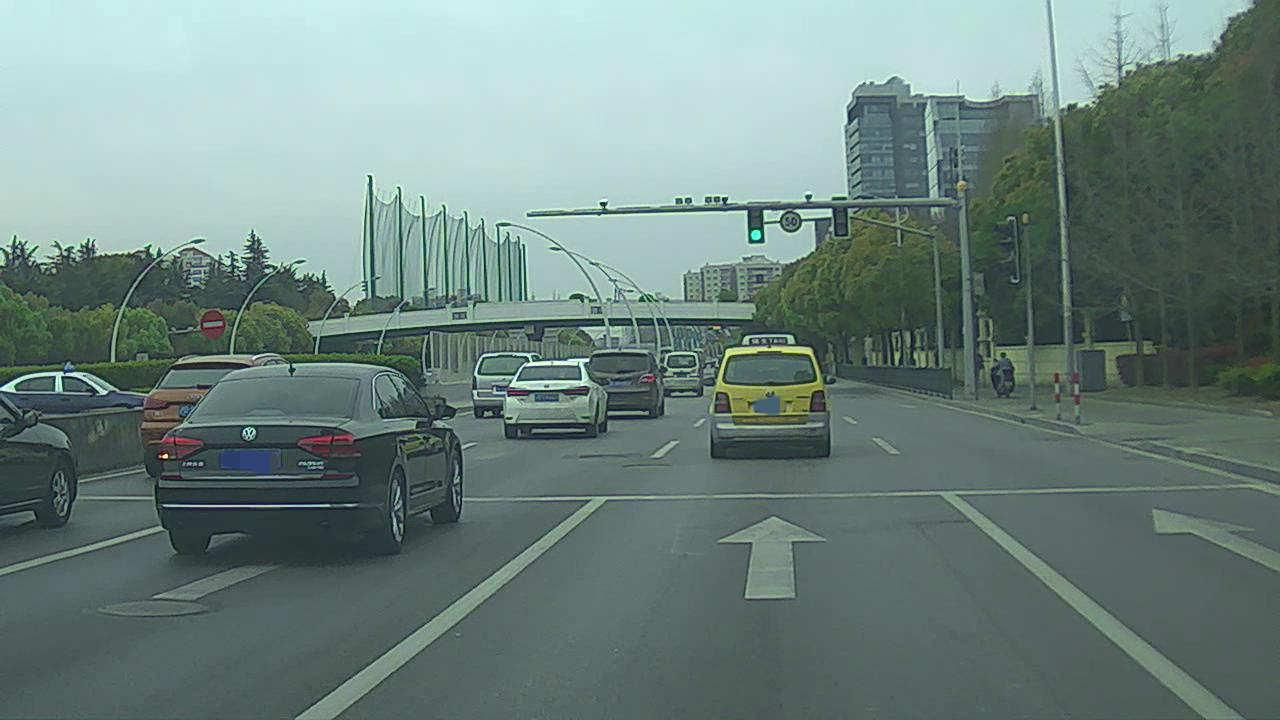traffic_light: (745, 201, 764, 246), (835, 196, 850, 241)
